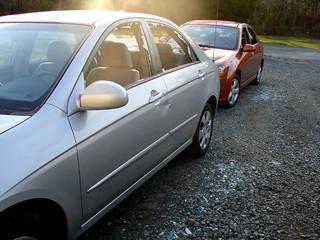doorouter-dent: (75, 38, 177, 193)
